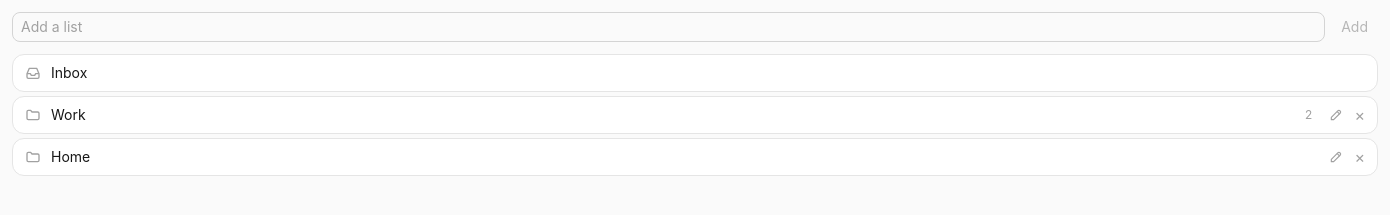
Test: renaming a list › says so rather than renaming onto another list's name, keeping the box open (LST-5)
The width and height of the screenshot is (1390, 215).
Click the button named "Rename the list \"Work\"".
click(1336, 115)  # box [1324,103,1348,127]
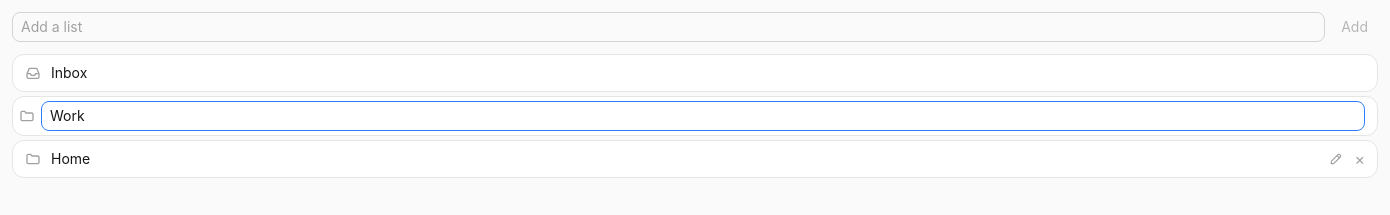
Type keys "{Control>}a{/Control}Home{Enter}"
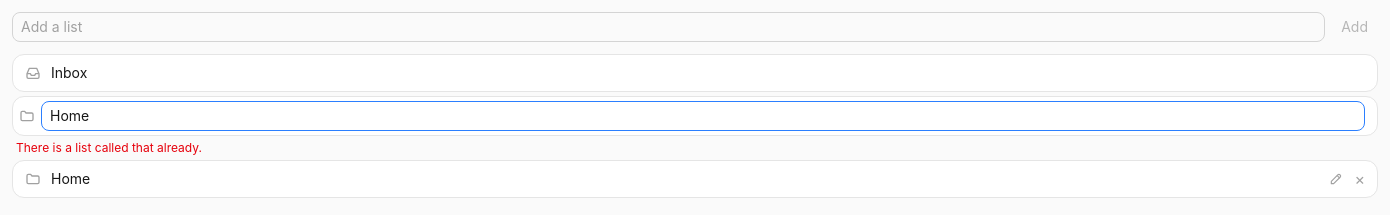
Result: the message reads "There is a list called that already." at [16,140,202,155]
Result: the field named "Name of the list \"Work\"" holds "Home" at [41,101,1365,131]
